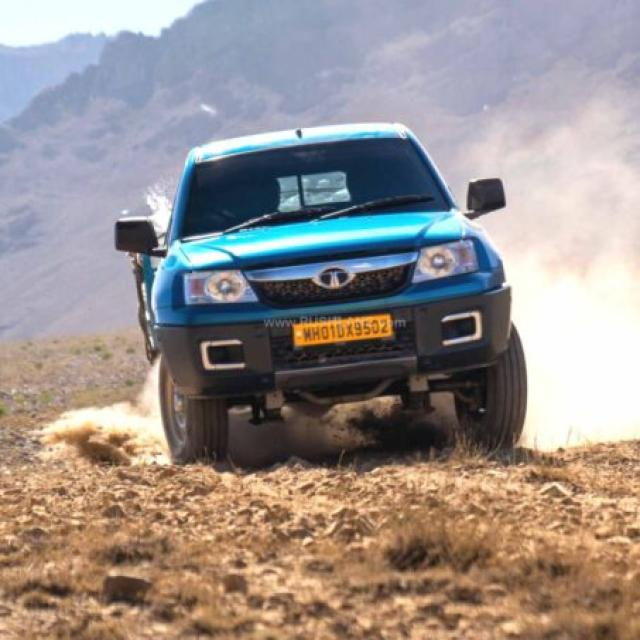light_vehicle: (123, 130, 546, 456)
